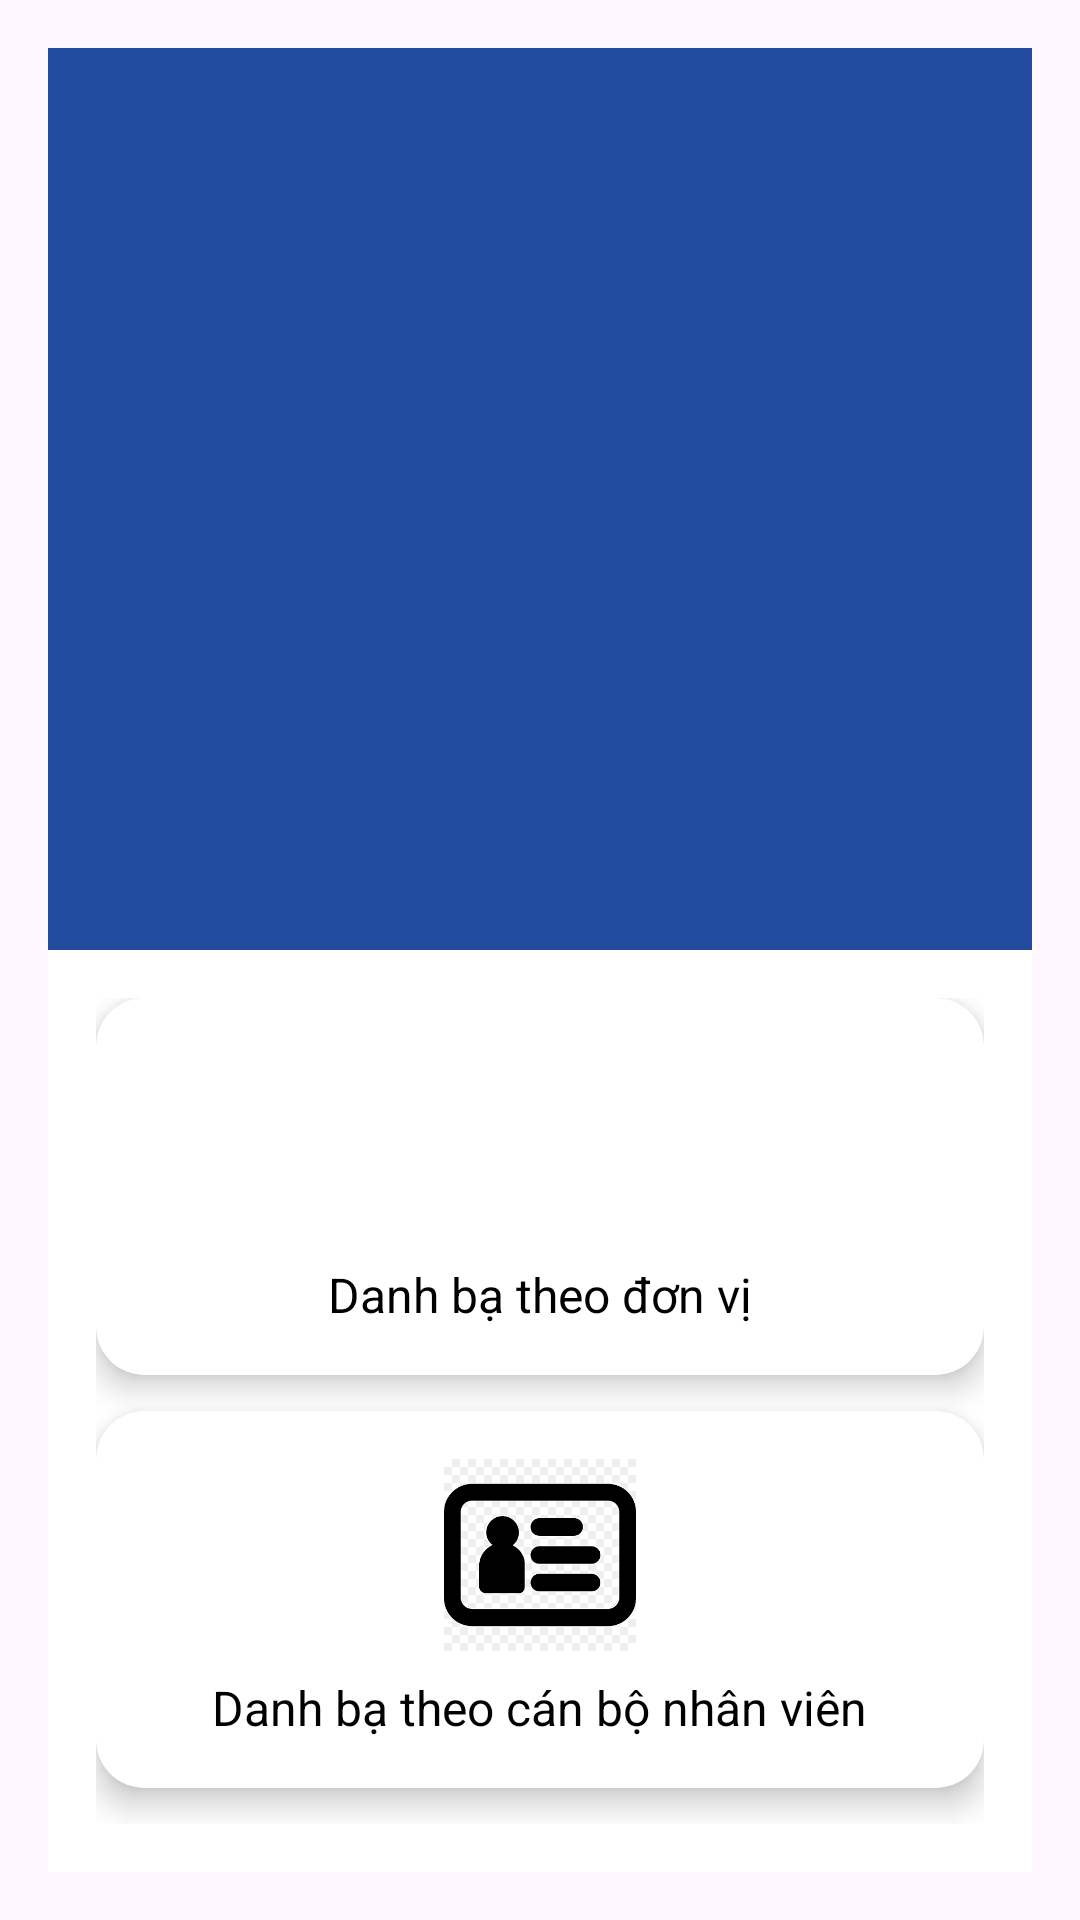

Screen size 1080x1920. Icon name, then its center in pixels as (x,y):
nhanvien: (540,1555)
